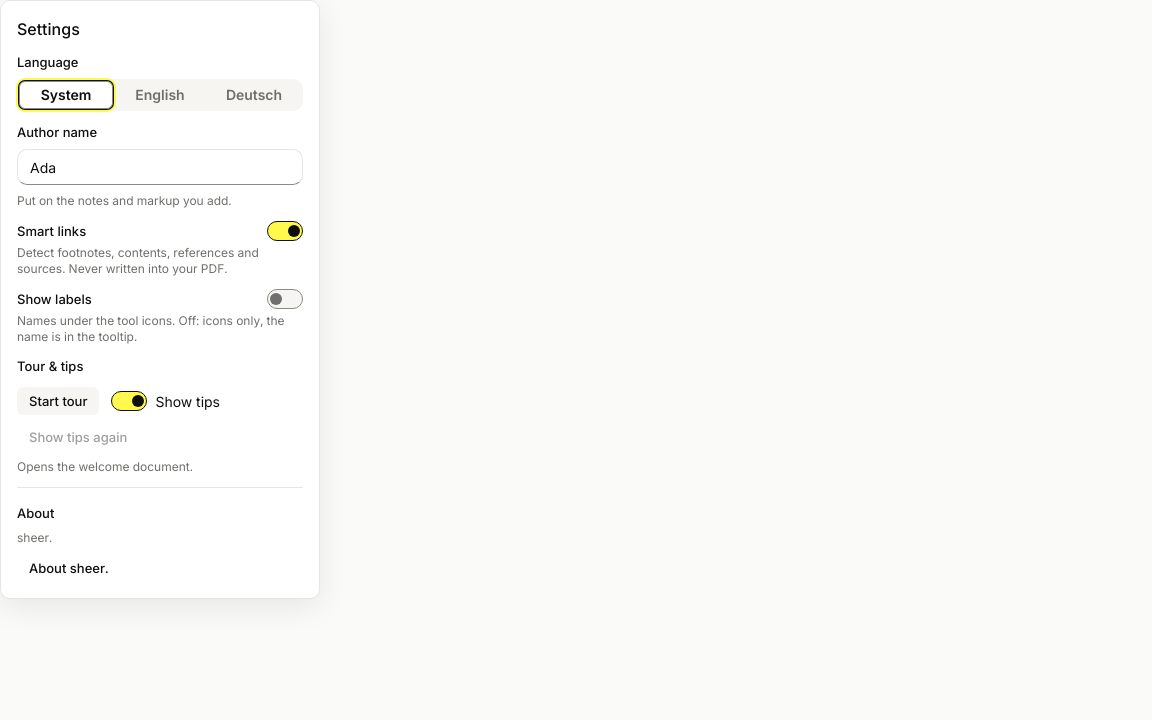
it: the author name setting › reverts the typing on Esc and keeps the popover open
This screenshot has width=1152, height=720.
Type "xyz" into the field labelled "Author name" at (160, 167), box [17,149,303,185]
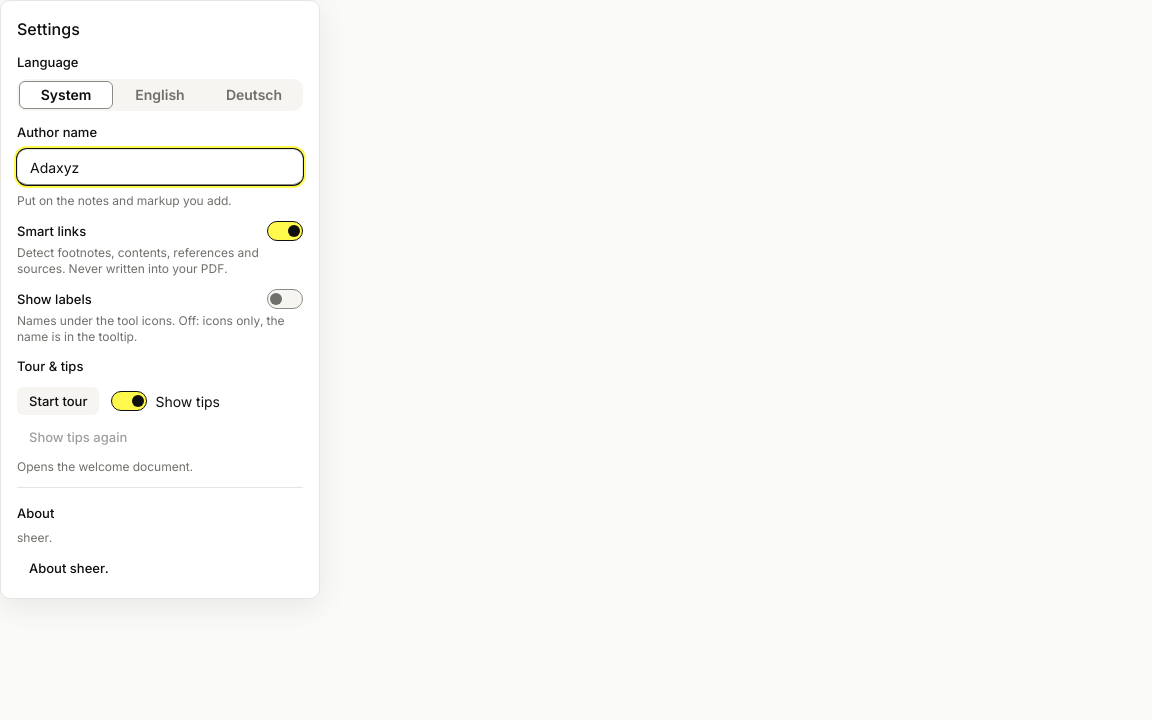
Press Escape
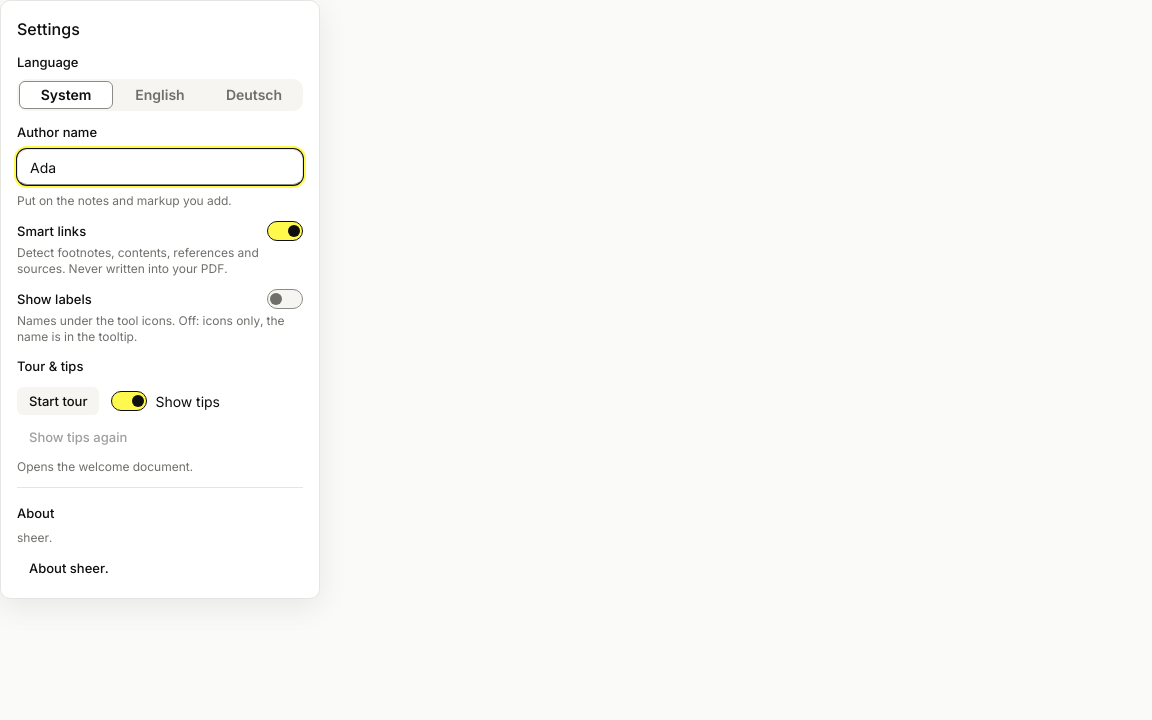
Check: the dialog "Settings" is shown, box [0,0,320,599]
Check: the field labelled "Author name" holds "Ada", box [17,149,303,185]
